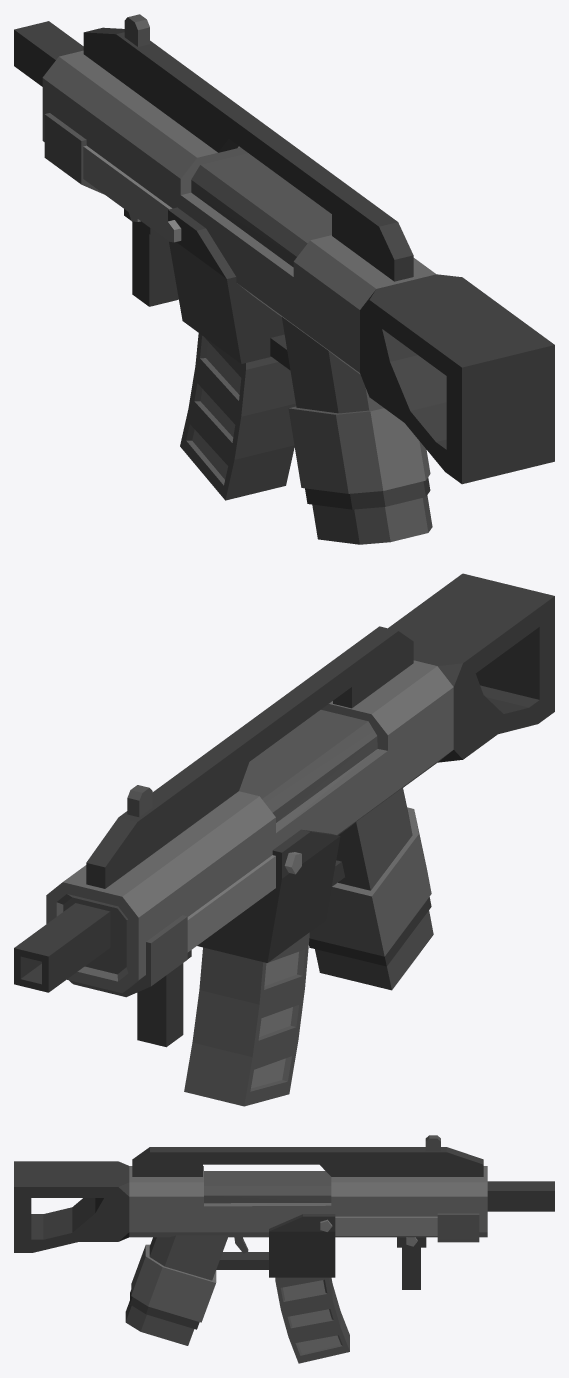
Rendered from subfusil_3.glb.
3 views of the same model, one above another, from view 1: azimuth 30°, elevation 25°; view 2: azimuth 150°, elevation 25°; view 3: azimuth 270°, elevation 25° (orthographic). The views are drawn at different scales.
Visible parts, largest first — view 1: subfusil_3, subfusil_charguer_3, subfusil_handle_3; view 2: subfusil_3, subfusil_charguer_3, subfusil_handle_3; view 3: subfusil_3, subfusil_charguer_3, subfusil_handle_3.
Part boxes in pixels (x1,y1,x2,y2): subfusil_3: (14,14,554,544); subfusil_charguer_3: (180,333,296,500); subfusil_handle_3: (124,209,178,306); subfusil_3: (14,573,554,997); subfusil_charguer_3: (184,932,309,1106); subfusil_handle_3: (137,950,191,1047); subfusil_3: (14,1135,554,1345); subfusil_charguer_3: (275,1277,349,1363); subfusil_handle_3: (397,1237,426,1289).
Size of the model in its own units: 0.359 by 1.07 by 2.4.
1 material, 1 textured.
